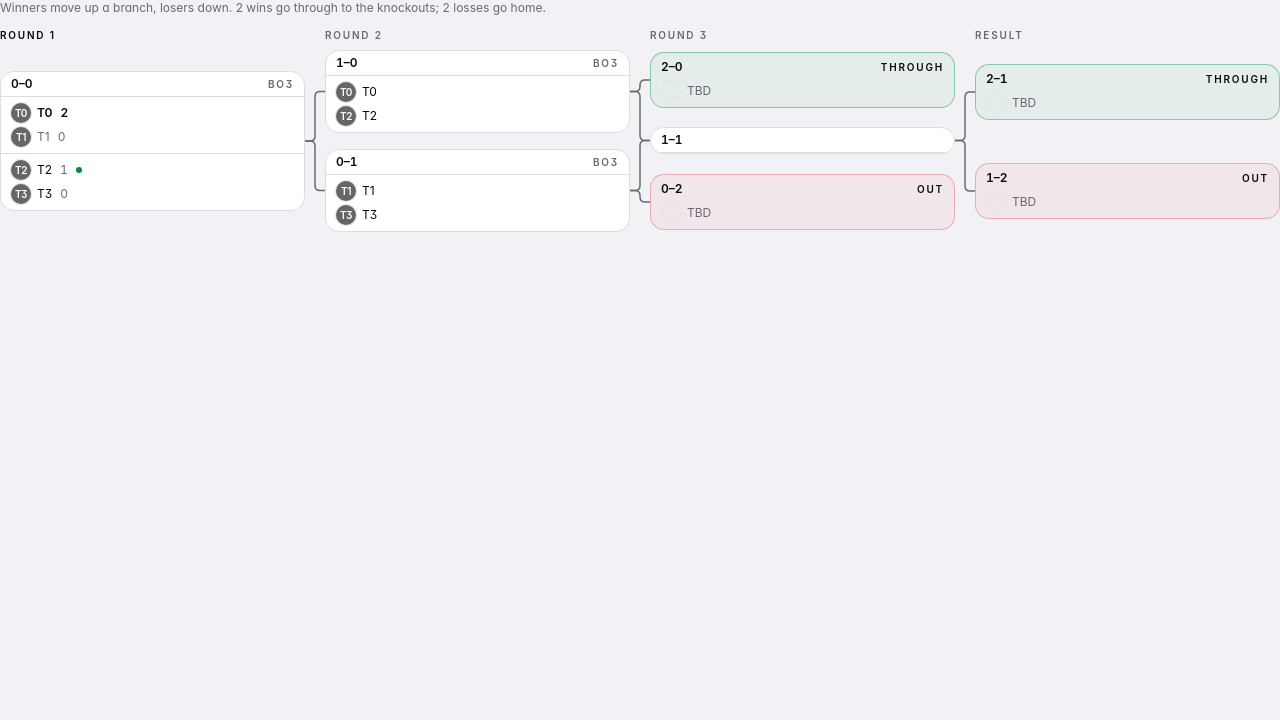
Scenario: SwissBracket › opens a match's status on a click or a tap
Click the button "T0 T0 T2 T2" at (346, 92), box [326, 76, 629, 132]
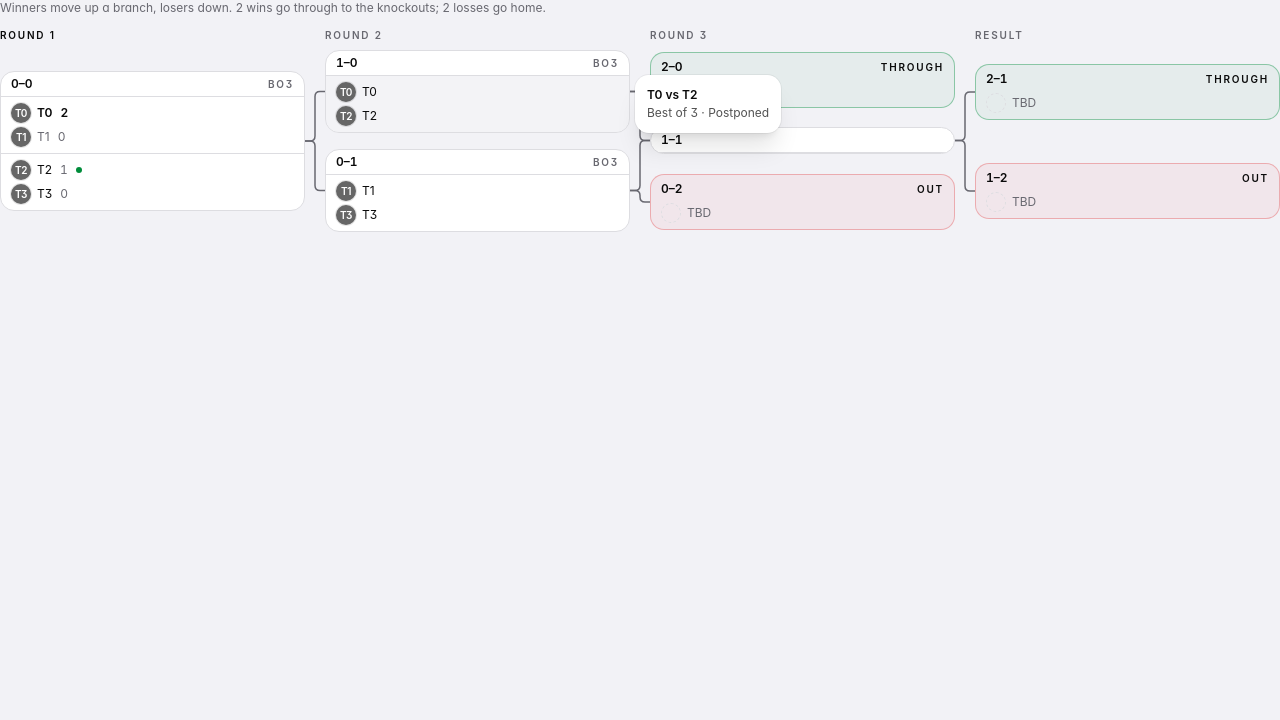
Result: the dialog shows "Best of 3 · Postponed" at [647, 105, 769, 120]
